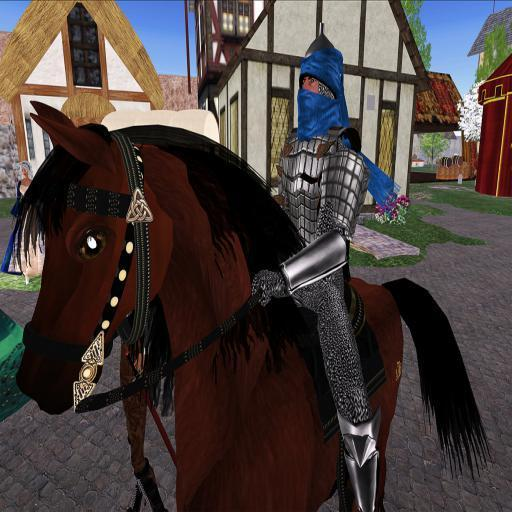horse: (13, 96, 494, 512)
